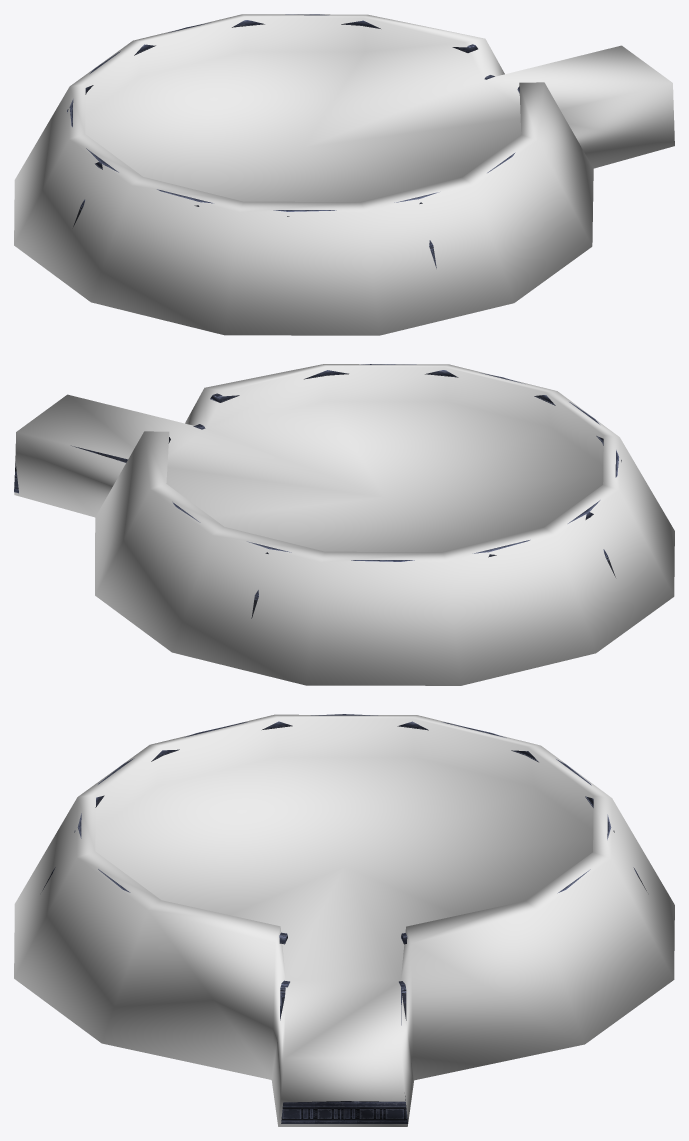
Rendered from Disck_Landing_Small.fbx.
3 views of the same model, one above another, from view 1: azimuth 30°, elevation 25°; view 2: azimuth 150°, elevation 25°; view 3: azimuth 270°, elevation 25° (orthographic). The views are drawn at different scales.
Parts seen in each view (by area): view 1: Pad_Landing_SmallCOLLMESH, Disc_Landing; view 2: Pad_Landing_SmallCOLLMESH, Disc_Landing; view 3: Pad_Landing_SmallCOLLMESH, Disc_Landing.
Boxes of the visible parts, x1,y1,x2,y2 form: Pad_Landing_SmallCOLLMESH: (14, 14, 674, 335); Disc_Landing: (67, 14, 519, 268); Pad_Landing_SmallCOLLMESH: (14, 364, 674, 685); Disc_Landing: (14, 364, 621, 618); Pad_Landing_SmallCOLLMESH: (14, 714, 674, 1126); Disc_Landing: (42, 714, 646, 1123).
Bounding box in the file's own units: 420 × 120 × 355.
